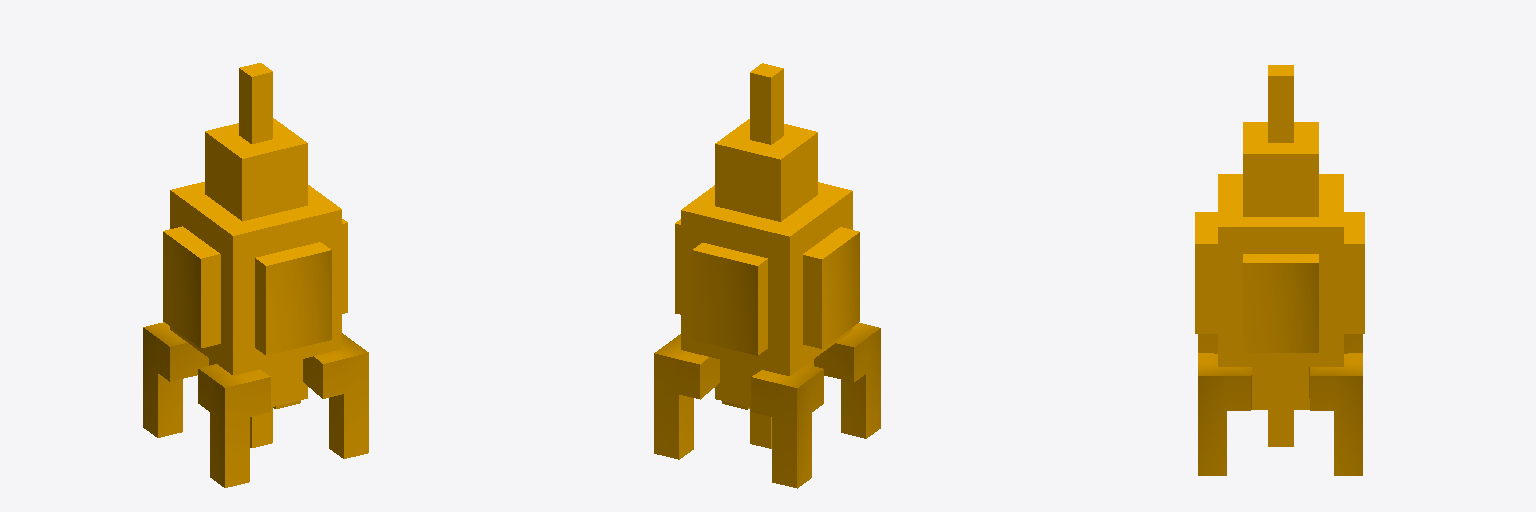
3 views of the same model, side by side, from view 1: azimuth 30°, elevation 25°; view 2: azimuth 150°, elevation 25°; view 3: azimuth 270°, elevation 25° (orthographic).
Visible parts, largest first — view 1: 立方体.001; view 2: 立方体.001; view 3: 立方体.001.
Part boxes in pixels (bbox=[...]): 立方体.001: bbox=[143, 63, 368, 487]; 立方体.001: bbox=[654, 63, 880, 488]; 立方体.001: bbox=[1195, 65, 1364, 475].
Bounding box in the file's own units: 0.526 × 1.26 × 0.5222.
1 materials, 1 textured.